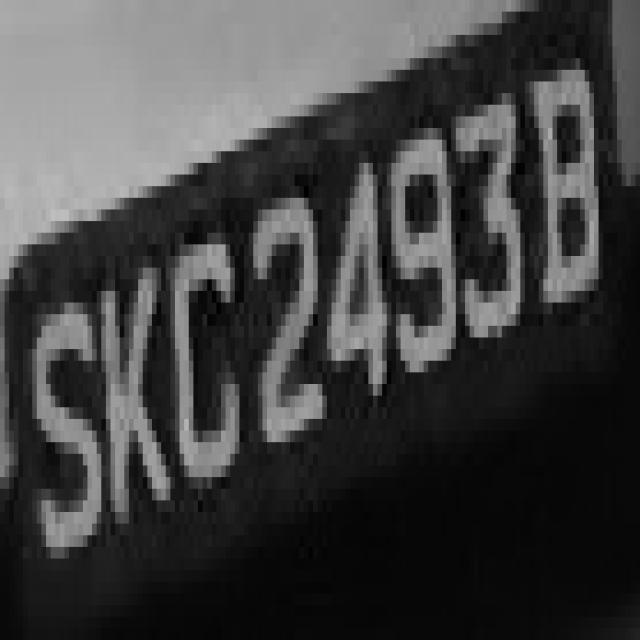2: (239, 174, 327, 500)
3: (446, 70, 530, 372)
4: (308, 140, 396, 466)
9: (377, 105, 456, 419)
B: (529, 46, 608, 338)
C: (161, 186, 244, 535)
K: (92, 233, 166, 605)
S: (28, 244, 92, 617)
